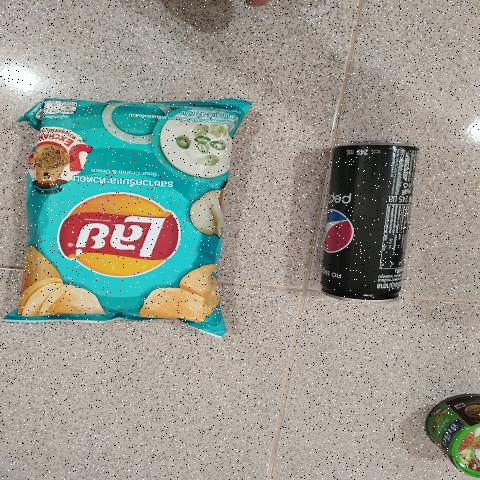lay_blue: (43, 110, 221, 306)
pepsi_black: (331, 140, 397, 301)
